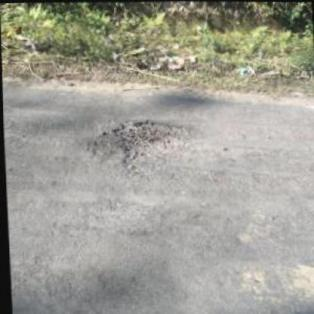Hueco: (105, 119, 194, 171)
